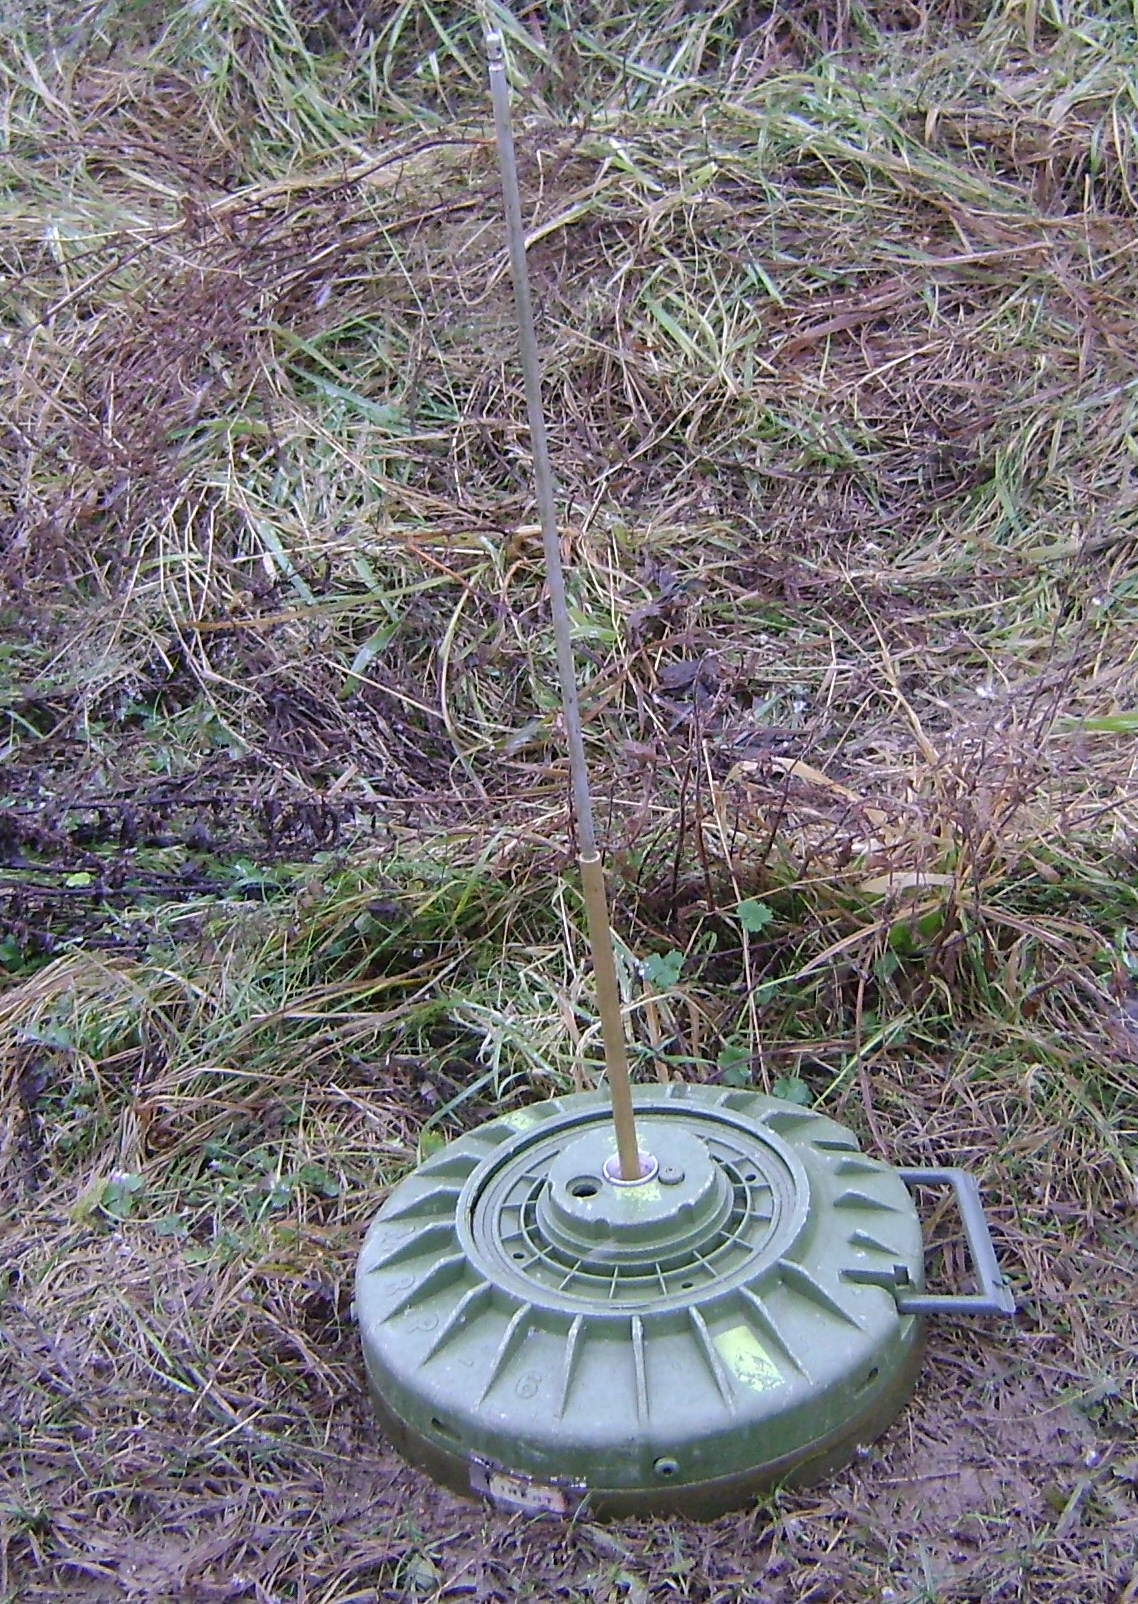car: (305, 1048, 1017, 1519)
